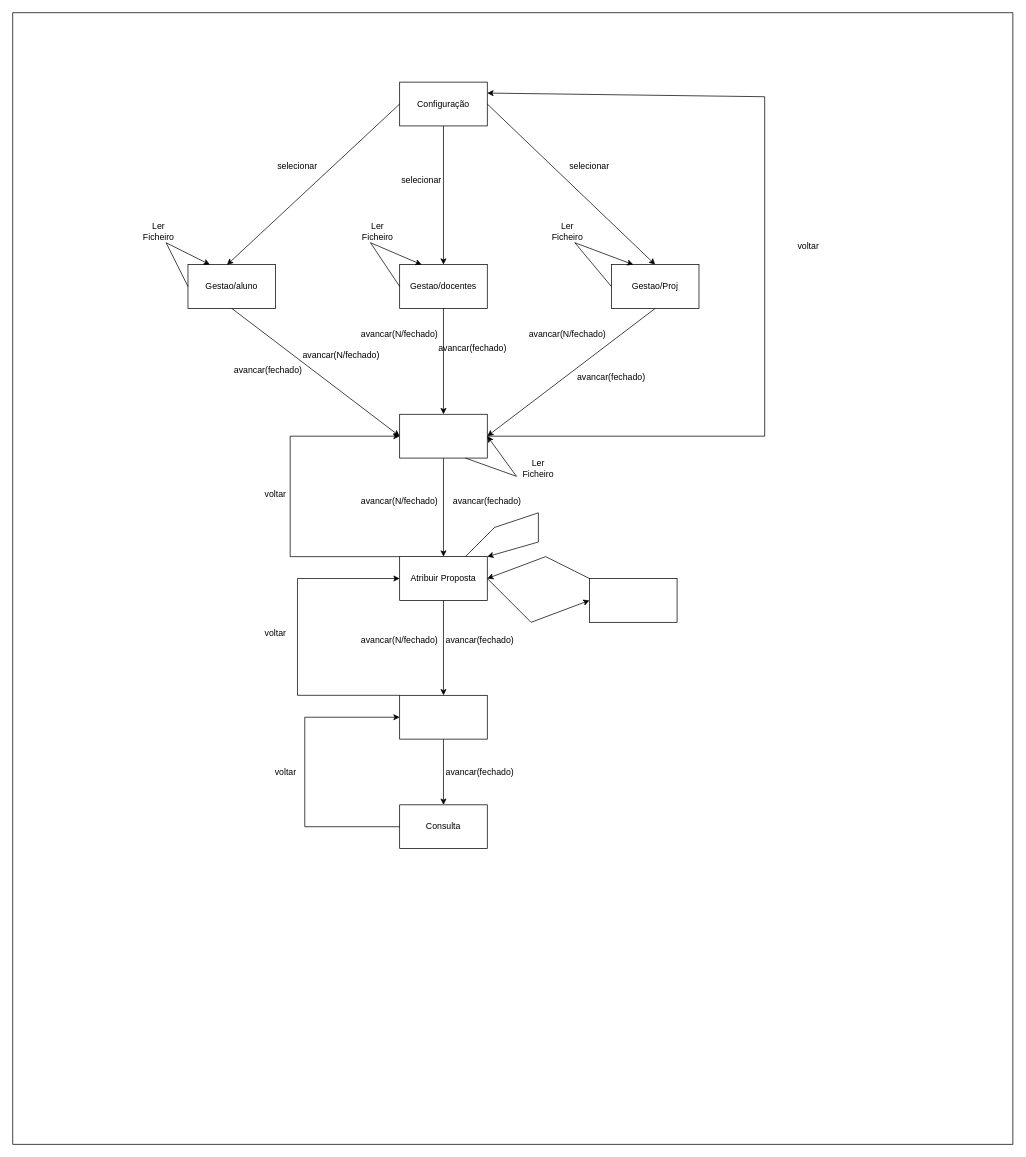
Image size: 1026x1157. Some labels were removed from this diagram. Here are the shapes that lost their labels. From the top down, the centre of each, then its label:
At (x=443, y=436): "Op. Candidatura".
At (x=633, y=600): "Conflito".
At (x=443, y=717): "Atribuir Orientador".
